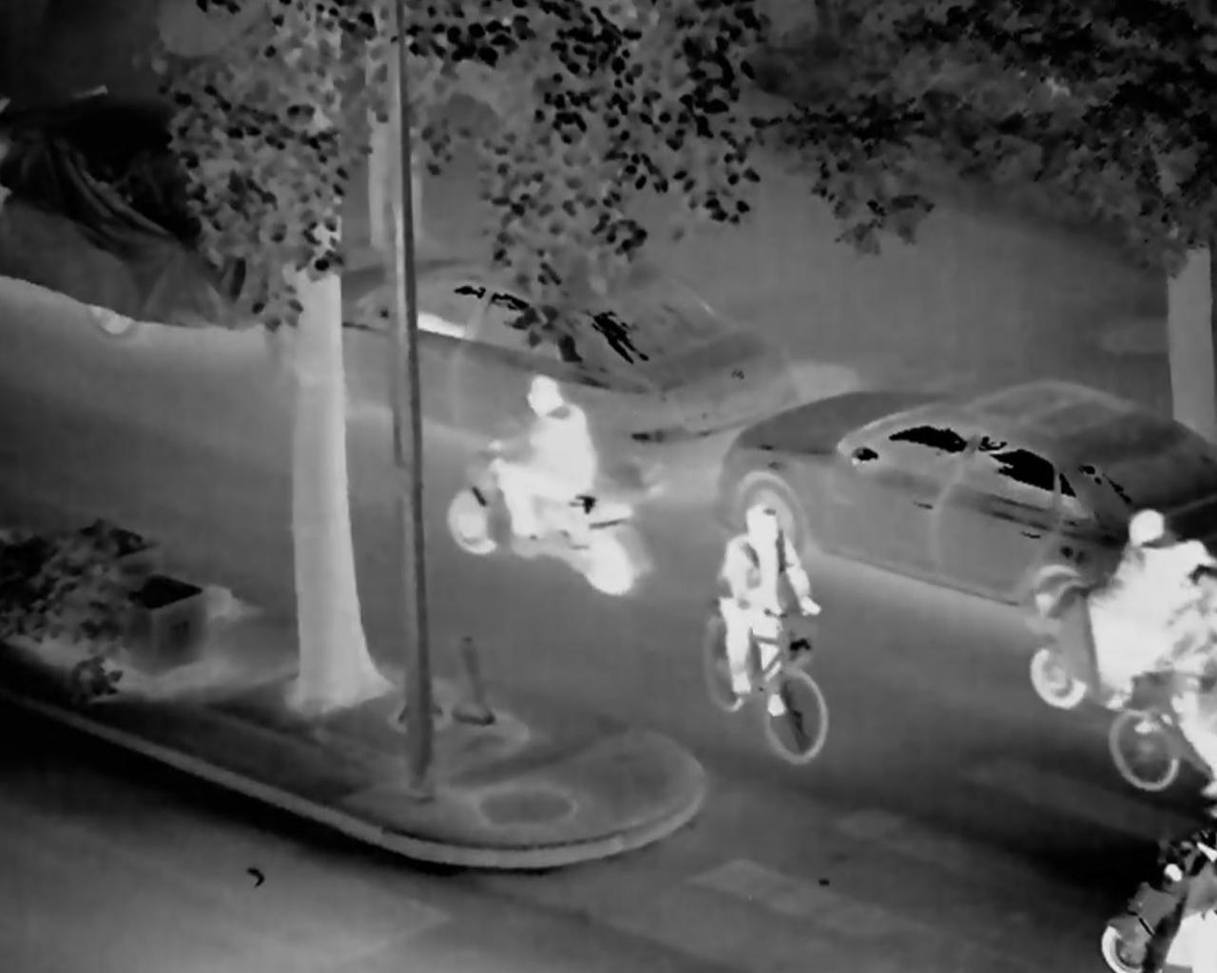person: (489, 372, 621, 582), (706, 506, 821, 736), (1089, 498, 1195, 686), (1159, 552, 1217, 792)
